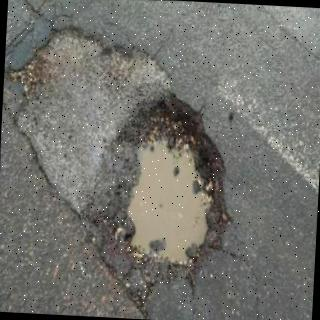pothole: (81, 99, 231, 300)
